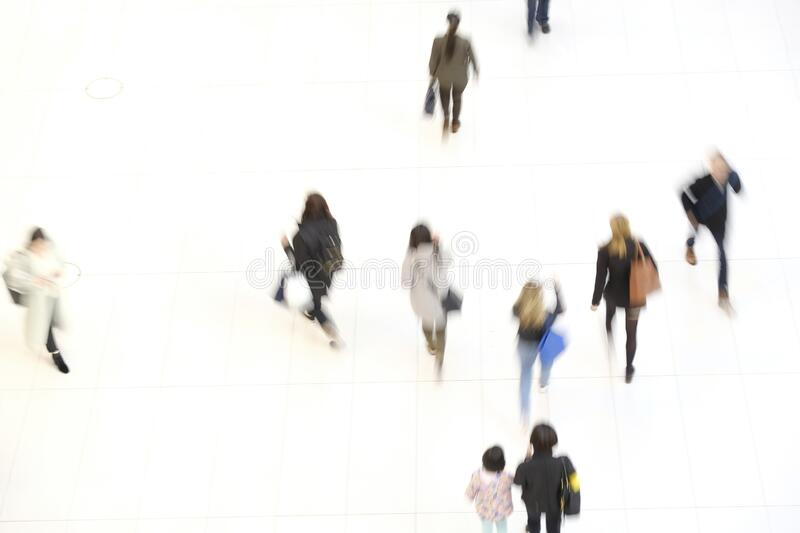person: (266, 184, 356, 353), (3, 223, 92, 380), (676, 151, 753, 321), (592, 211, 663, 388), (397, 218, 474, 381), (508, 271, 571, 425), (420, 8, 482, 144), (515, 424, 585, 533), (467, 445, 517, 533)
